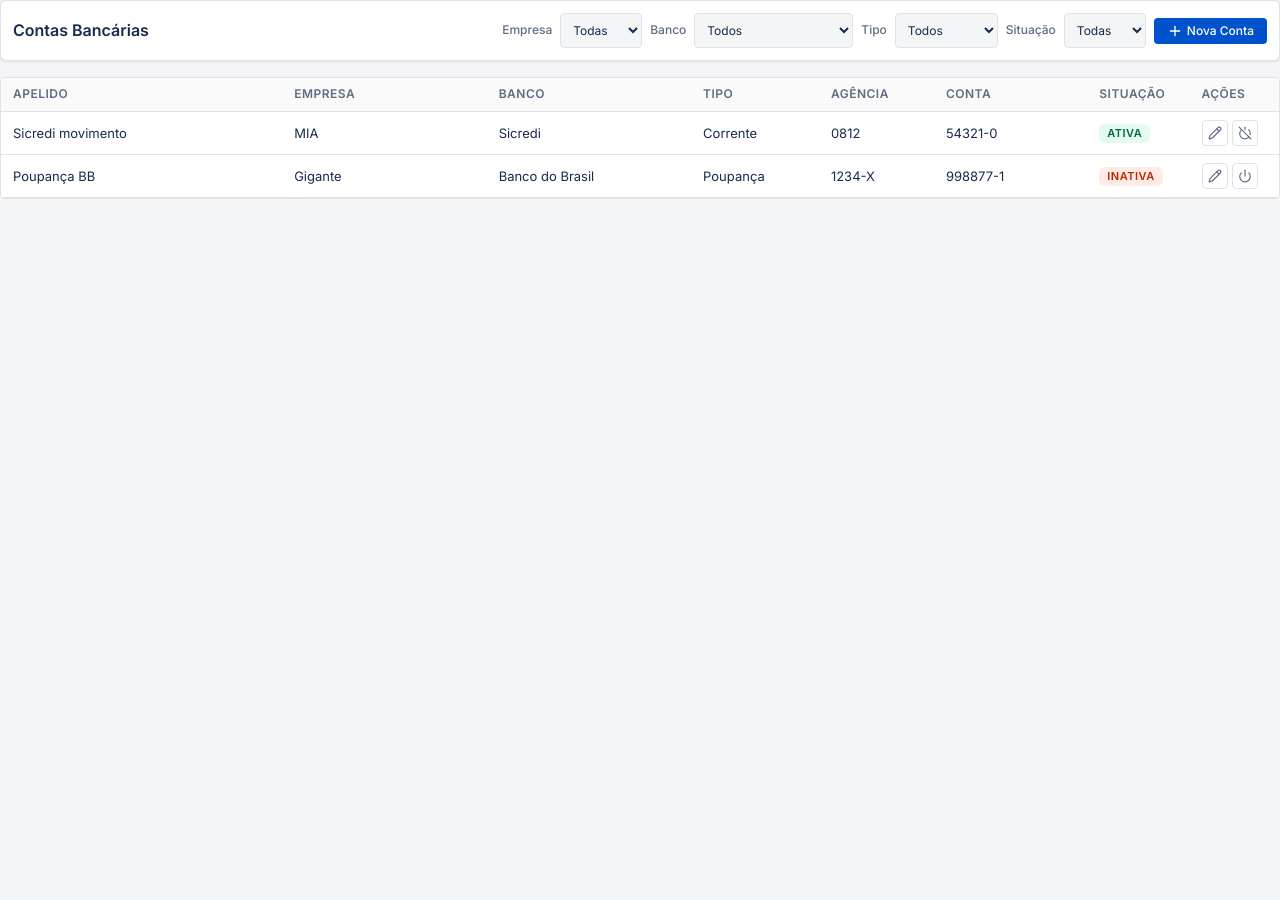
it: ContasBancarias › valida empresa, banco, agência, conta, dígitos e apelido antes de enviar
Check: the text "Sicredi movimento" is shown, box 1,111 -> 282,154
Click the button "Nova Conta": (1210, 30) 1154,18 -> 1267,44
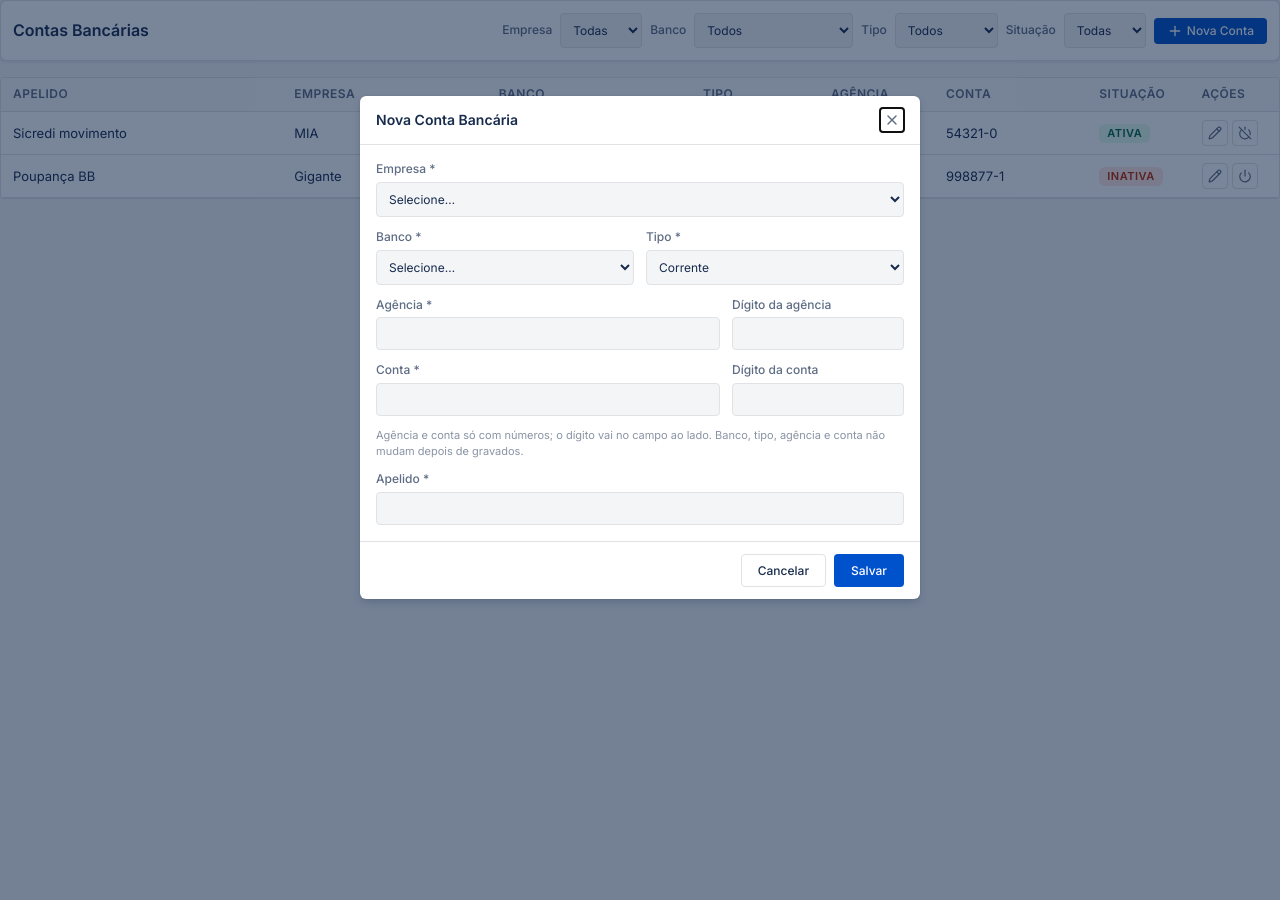
In the field labelled "Agência *": (548, 334) 376,317 -> 720,350, type "123456"
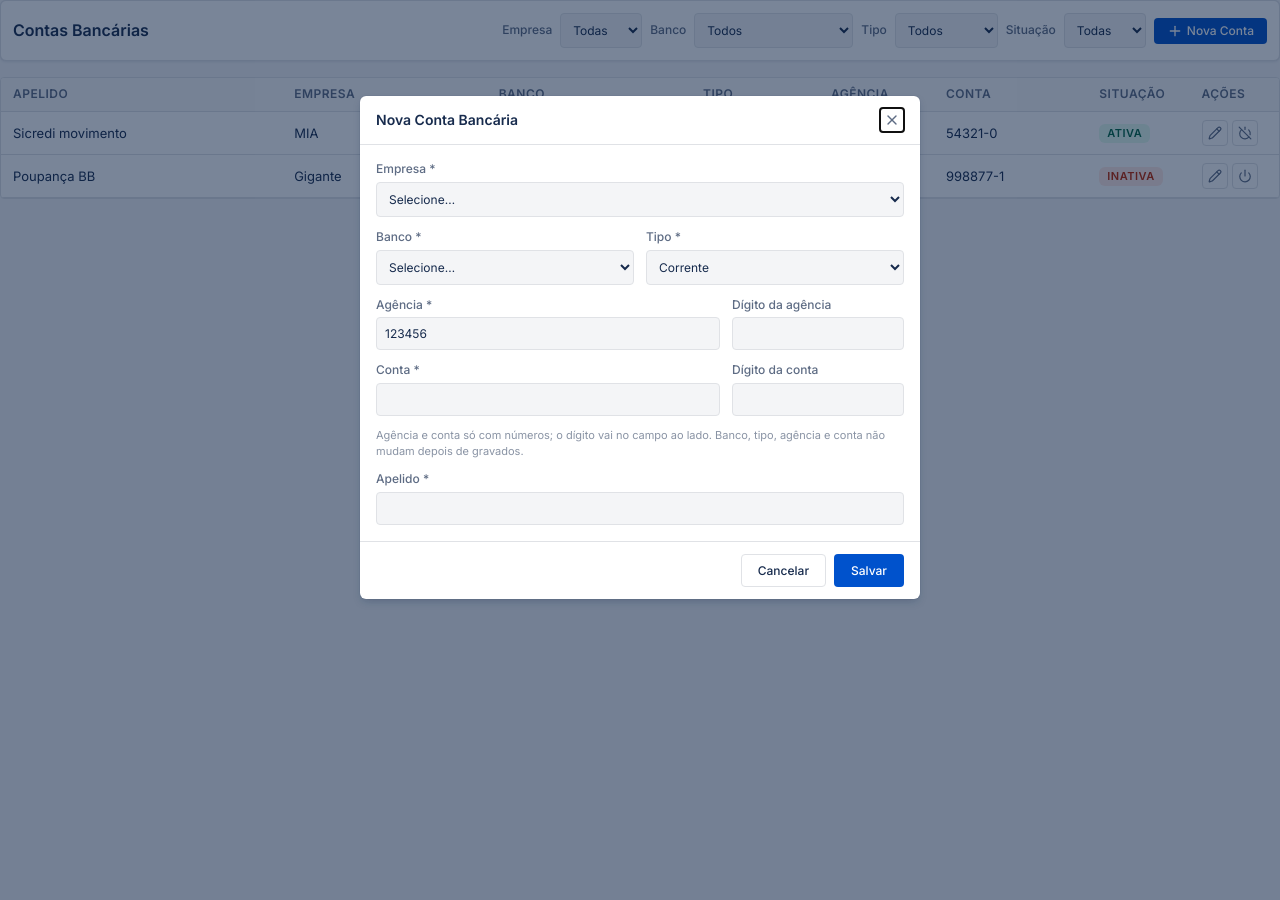
In the field labelled "Dígito da agência": (818, 334) 732,317 -> 904,350, type "7a"
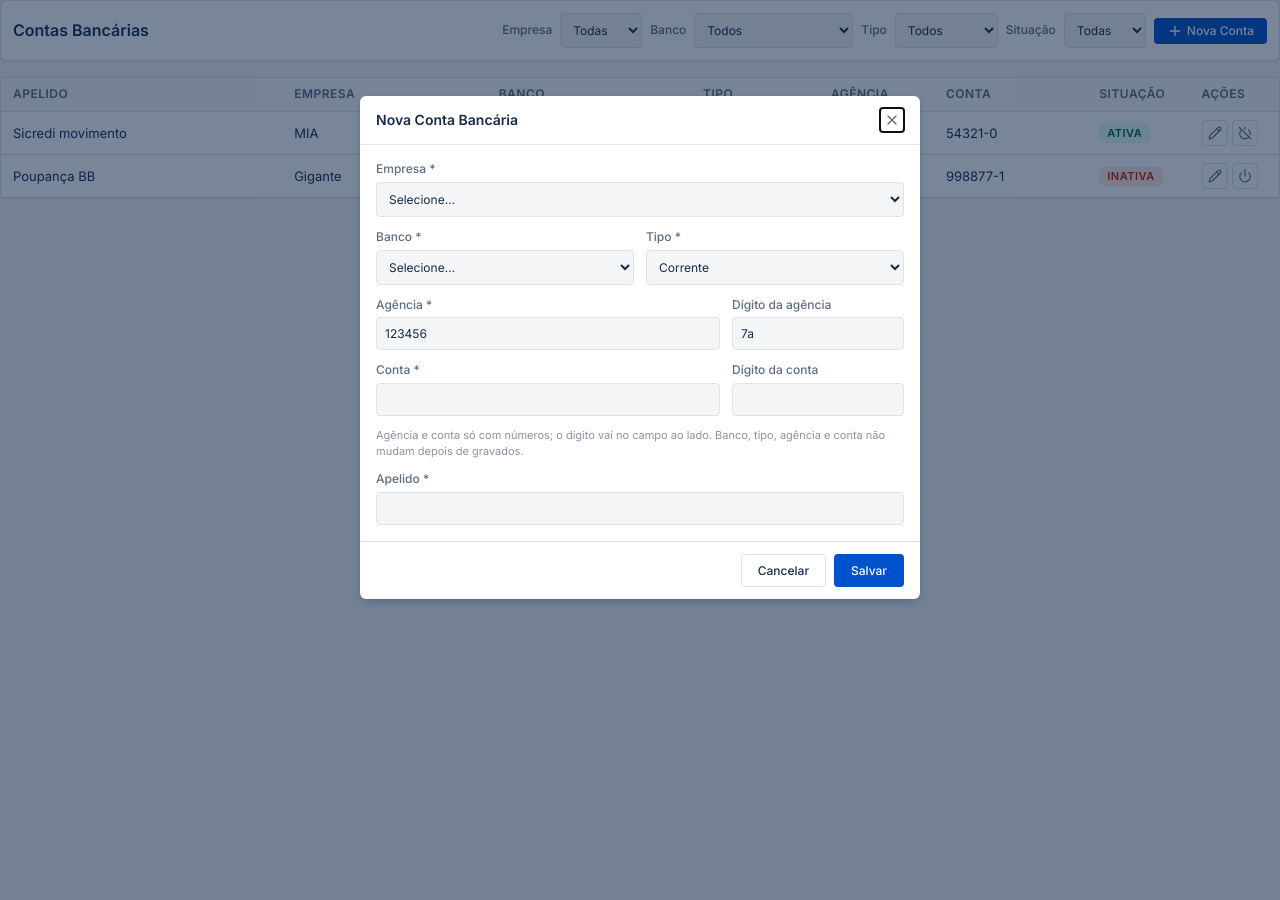
In the field labelled "Conta *": (548, 400) 376,383 -> 720,416, type "0000"
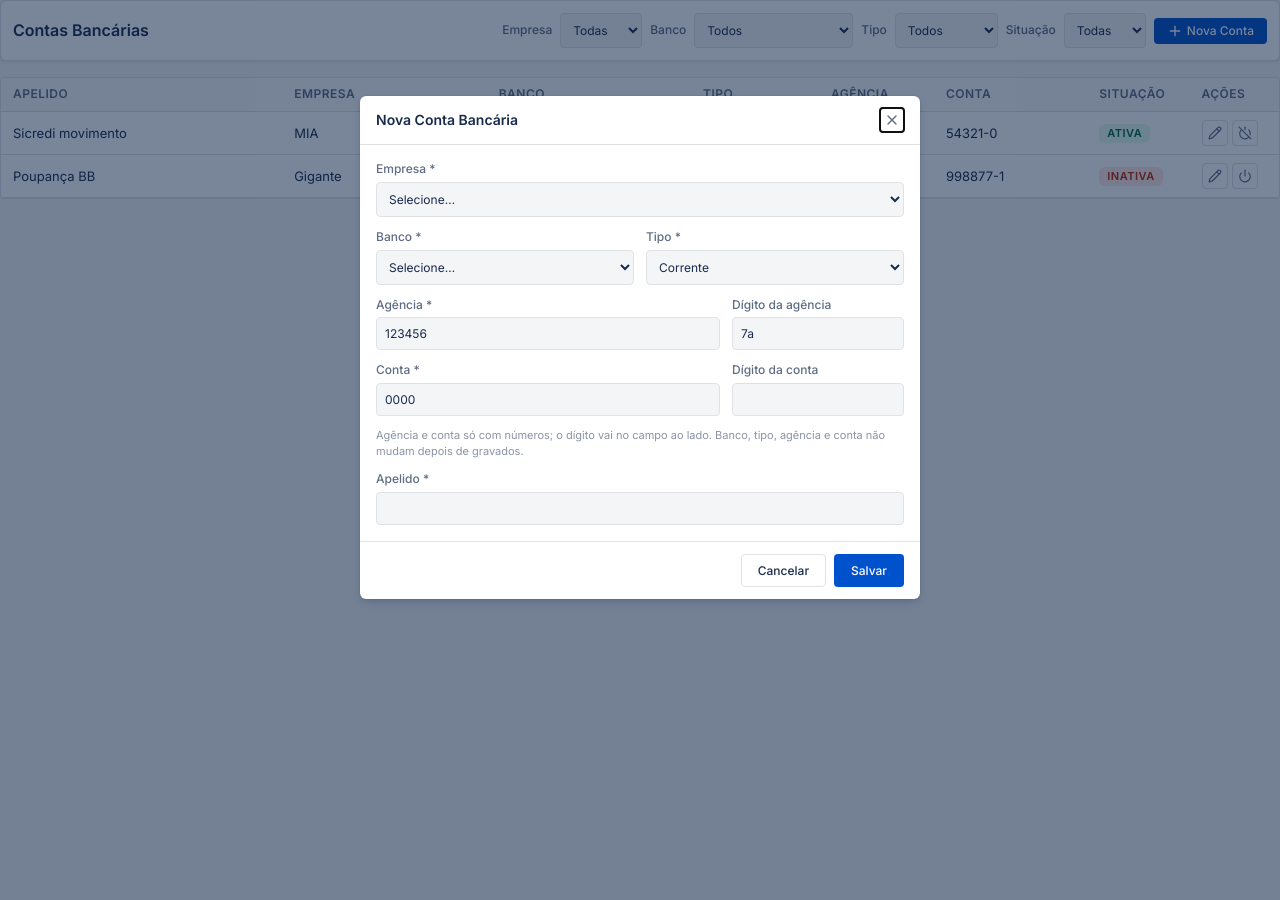
In the field labelled "Dígito da conta": (818, 400) 732,383 -> 904,416, type "Y"
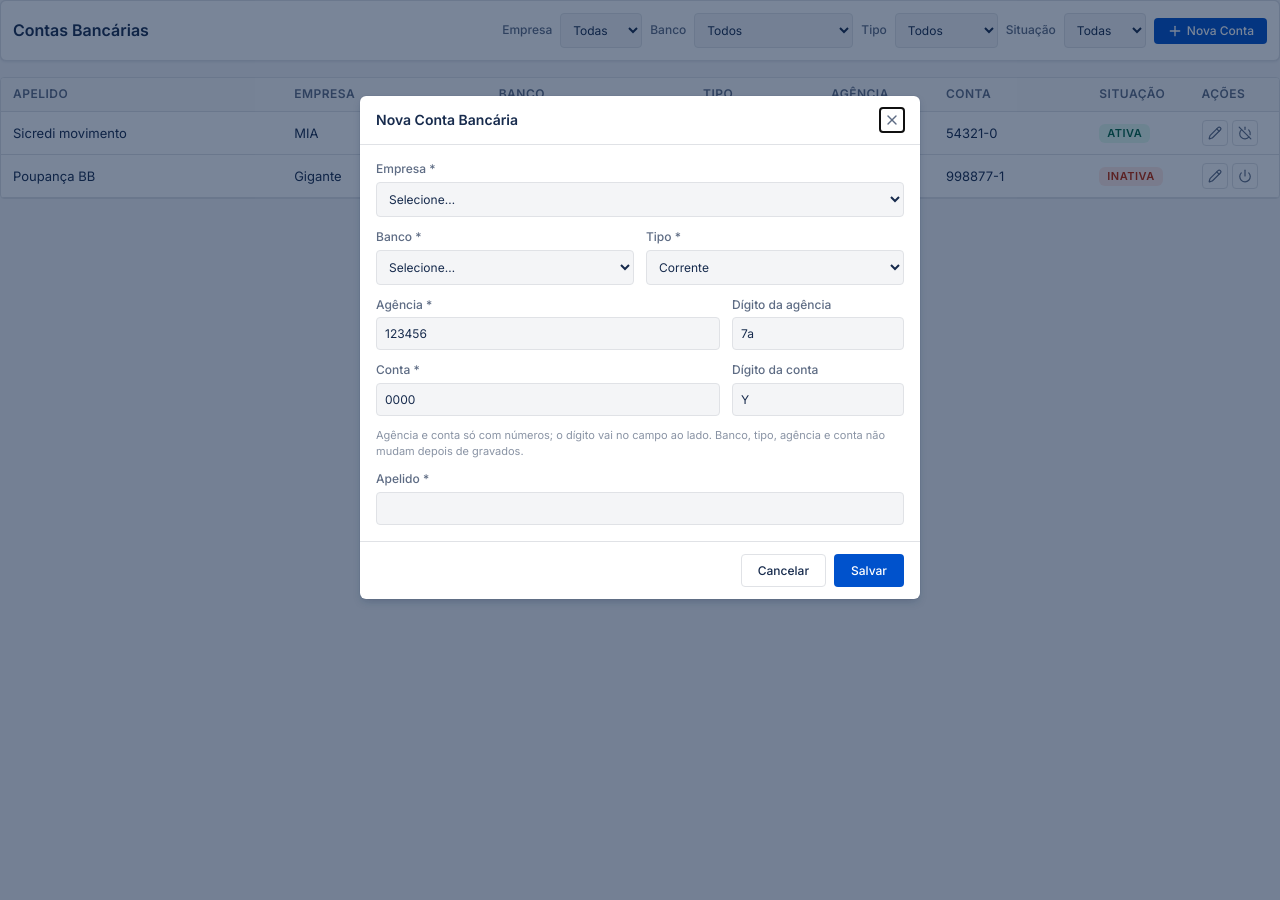
Click the button "Salvar": (869, 570) 834,554 -> 904,587
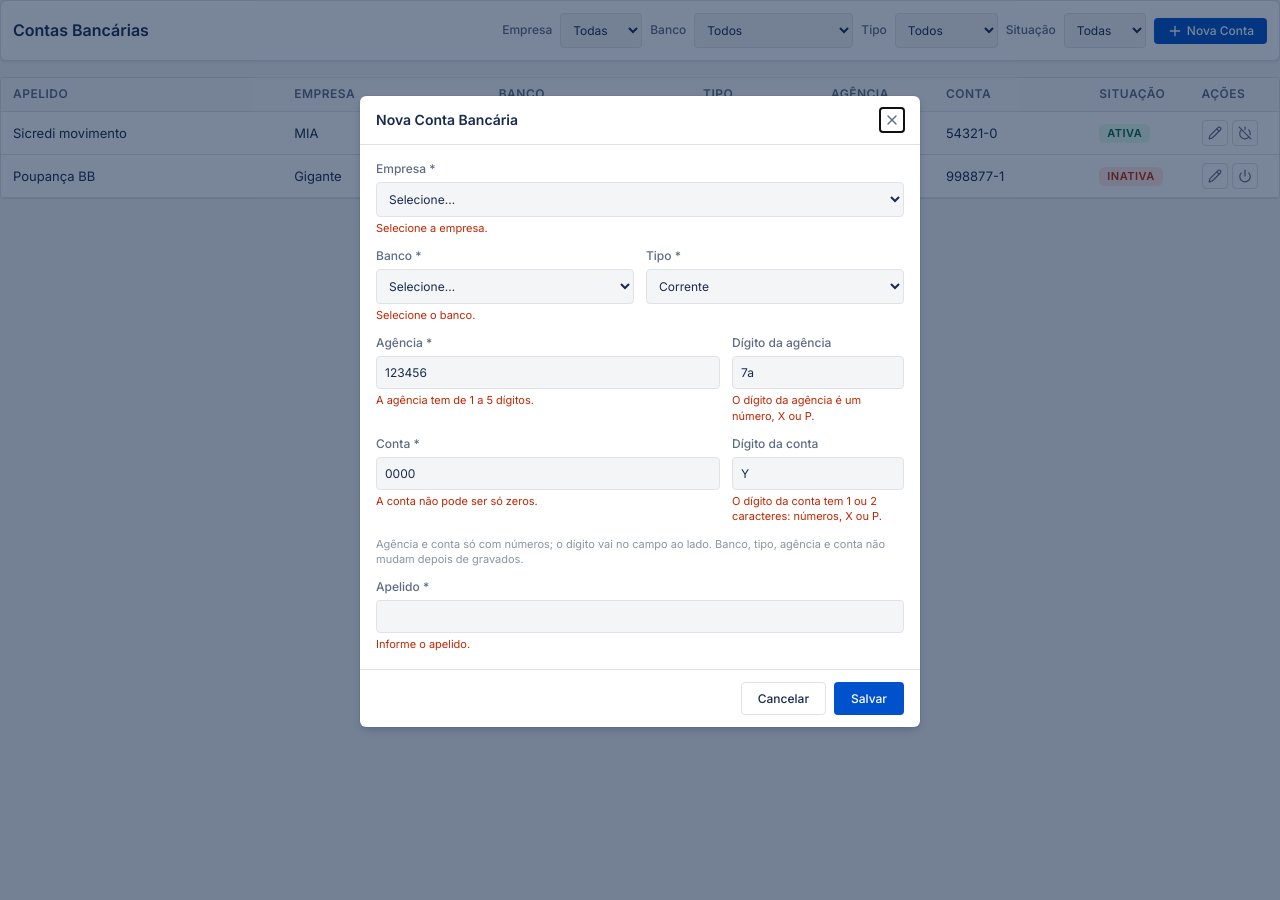
Check: the text "Selecione a empresa." is shown, box 376,221 -> 488,235
Check: the text "Selecione o banco." is shown, box 376,308 -> 475,322
Check: the text "A agência tem de 1 a 5 dígitos." is shown, box 376,393 -> 534,407
